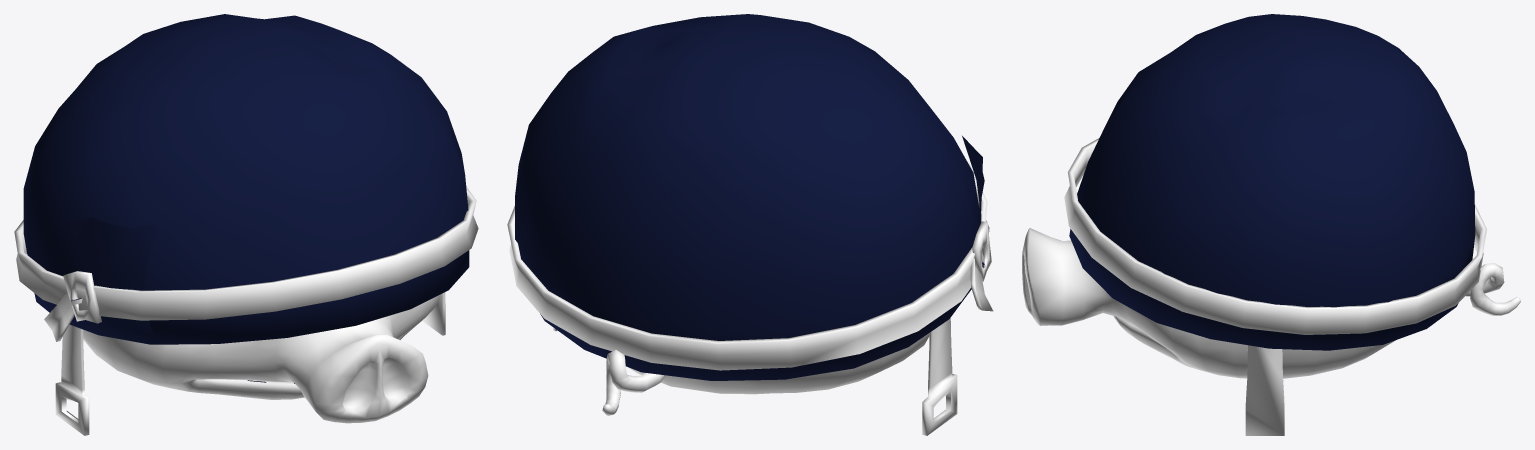
The model's file is pighelment.obj.
3 views of the same model, side by side, from view 1: azimuth 30°, elevation 25°; view 2: azimuth 150°, elevation 25°; view 3: azimuth 270°, elevation 25° (orthographic). The views are drawn at different scales.
Parts seen in each view (by area): view 1: merig_helmet_ID240.023; view 2: merig_helmet_ID240.023; view 3: merig_helmet_ID240.023.
Boxes of the visible parts, x1,y1,x2,y2 form: merig_helmet_ID240.023: [14, 14, 478, 435]; merig_helmet_ID240.023: [507, 14, 993, 435]; merig_helmet_ID240.023: [1022, 14, 1520, 435].
Size of the model in its own units: 1.06 by 0.8164 by 1.16.
